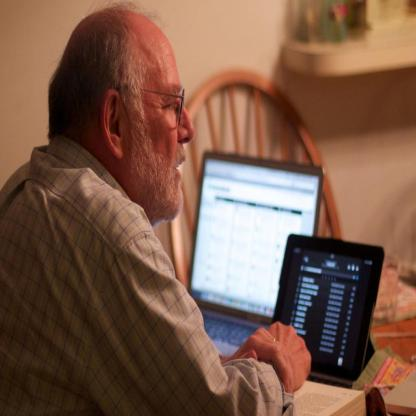board: (172, 144, 331, 343), (270, 233, 385, 389)
